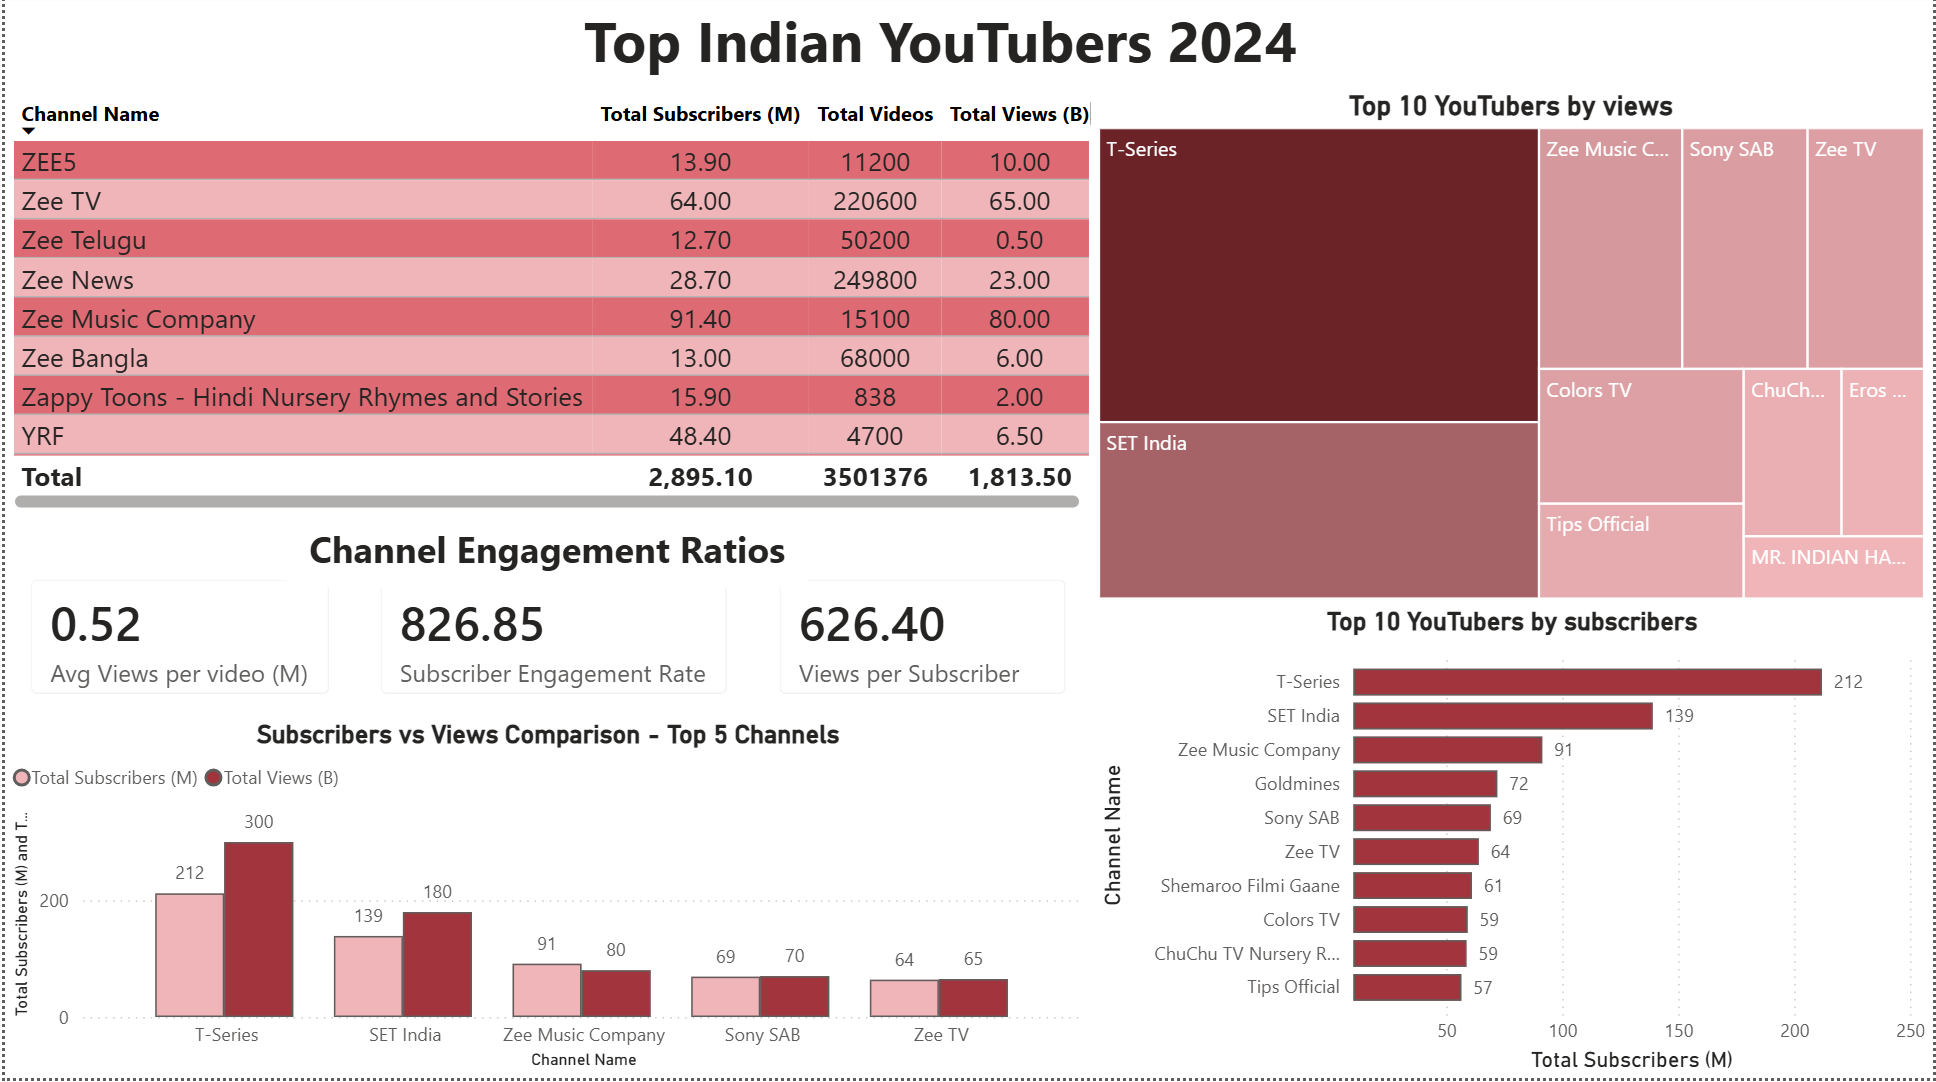

The dashboard page shown, as its layout file describes it:
{"tool":"powerbi","page":{"name":"Page 1","canvas":[1280,720],"ordinal":0},"visuals":[{"type":"textbox","box":[379.1,0,522.8,64.2],"z":0},{"type":"tableEx","fields":{"Values":["Indian_Youtuber.channel_name","Indian_Youtuber.Total Subscribers (M)","Indian_Youtuber.Total Videos","Indian_Youtuber.Total Views (B)"]},"box":[0,64.2,733.8,282.8],"z":1000},{"type":"treemap","title":"Top 10 YouTubers by views","fields":{"Group":["Indian_Youtuber.channel_name"],"Values":["Indian_Youtuber.Total Views (B)"]},"box":[721.5,64.2,558,342.4],"z":2000},{"type":"cardVisual","fields":{"Data":["Indian_Youtuber.Avg Views per video (M)"]},"box":[0,371.5,232.4,110.1],"z":3000},{"type":"cardVisual","fields":{"Data":["Indian_Youtuber.Subscriber Engagement Rate"]},"box":[232.4,371.5,264.5,110.1],"z":4000},{"type":"cardVisual","fields":{"Data":["Indian_Youtuber.Views per  Subscriber"]},"box":[496.8,371.5,224.7,110.1],"z":5000},{"type":"clusteredBarChart","title":"Top 10 YouTubers by subscribers","fields":{"Category":["Indian_Youtuber.channel_name"],"Y":["Indian_Youtuber.Total Subscribers (M)"]},"box":[721.9,406.2,557.7,313.2],"z":6000},{"type":"clusteredColumnChart","title":"Subscribers vs Views Comparison - Top 5 Channels","fields":{"Category":["Indian_Youtuber.channel_name"],"Y":["Indian_Youtuber.Total Subscribers (M)","Indian_Youtuber.Total Views (B)"]},"box":[0,481.5,721.5,236.9],"z":7000},{"type":"textbox","box":[187.3,346.7,345.7,47.8],"z":8000}]}

Visuals, with their boxes in screenshot pixels (x1, y1, x2, y2), scaled from the page's 1280x720 canvas onto the 1936x1082 screenshot:
textbox: <region>573, 0, 1364, 96</region>
tableEx - Indian_Youtuber.channel_name x Indian_Youtuber.Total Subscribers (M): <region>0, 96, 1110, 521</region>
"Top 10 YouTubers by views" treemap: <region>1091, 96, 1935, 611</region>
cardVisual - Indian_Youtuber.Avg Views per video (M): <region>0, 558, 352, 724</region>
cardVisual - Indian_Youtuber.Subscriber Engagement Rate: <region>352, 558, 752, 724</region>
cardVisual - Indian_Youtuber.Views per  Subscriber: <region>751, 558, 1091, 724</region>
"Top 10 YouTubers by subscribers" clusteredBarChart: <region>1092, 610, 1935, 1081</region>
"Subscribers vs Views Comparison - Top 5 Channels" clusteredColumnChart: <region>0, 724, 1091, 1080</region>
textbox: <region>283, 521, 806, 593</region>
